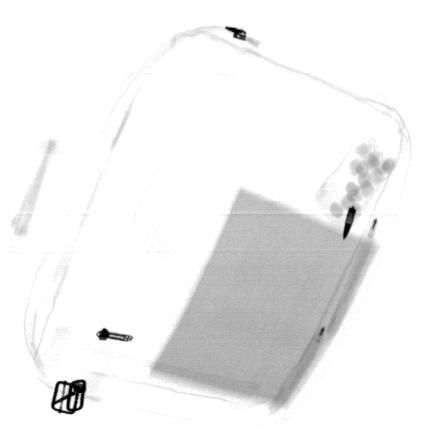Bullet: (342, 205, 358, 243)
